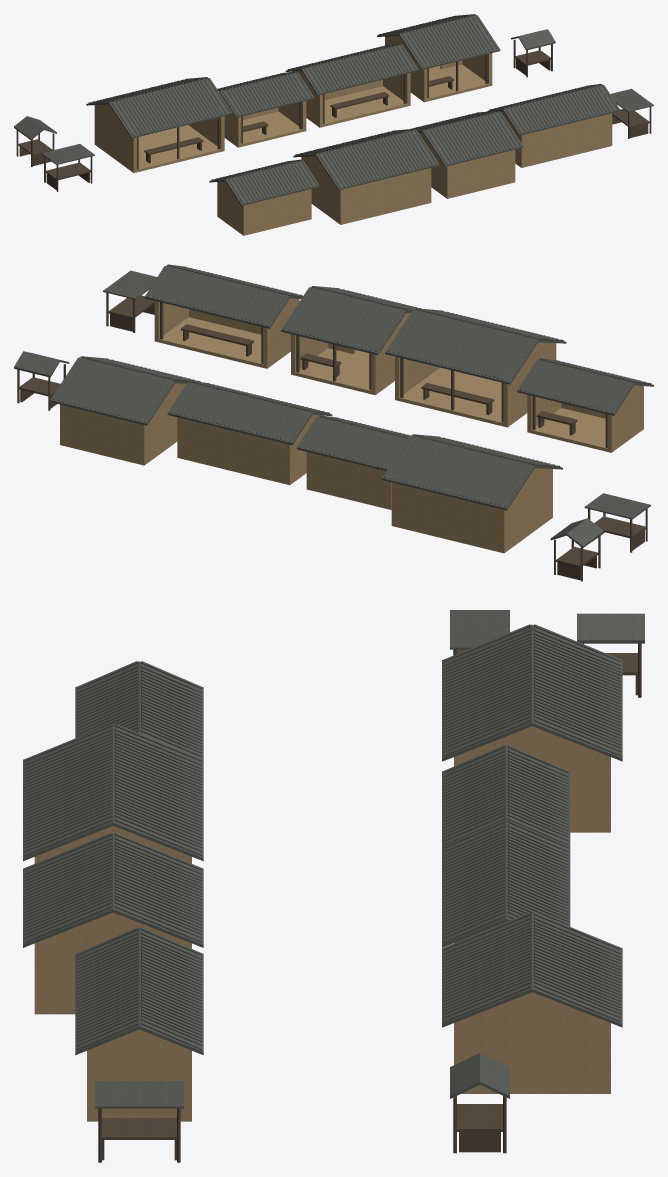
The model's file is street_frontage-LOD0.glb.
3 views of the same model, one above another, from view 1: azimuth 30°, elevation 25°; view 2: azimuth 150°, elevation 25°; view 3: azimuth 270°, elevation 25° (orthographic). The views are drawn at different scales.
Parts seen in each view (by area): view 1: layout__LY_P01_tile__PBR, layout__LY_P01_earth__PBR, layout__LY_P01_timber__PBR; view 2: layout__LY_P01_tile__PBR, layout__LY_P01_earth__PBR, layout__LY_P01_timber__PBR; view 3: layout__LY_P01_tile__PBR, layout__LY_P01_earth__PBR, layout__LY_P01_timber__PBR.
Part boxes in pixels (x1,y1,x2,y2): layout__LY_P01_tile__PBR: (14,14,653,205); layout__LY_P01_earth__PBR: (94,36,612,235); layout__LY_P01_timber__PBR: (16,39,651,191); layout__LY_P01_tile__PBR: (14,264,653,547); layout__LY_P01_earth__PBR: (60,298,643,553); layout__LY_P01_timber__PBR: (17,292,647,581); layout__LY_P01_tile__PBR: (23,610,644,1108); layout__LY_P01_earth__PBR: (34,726,610,1121); layout__LY_P01_timber__PBR: (98,643,641,1162).
Size of the model in its own units: 44.85 by 4.93 by 23.75.
3 materials, 3 textured.
